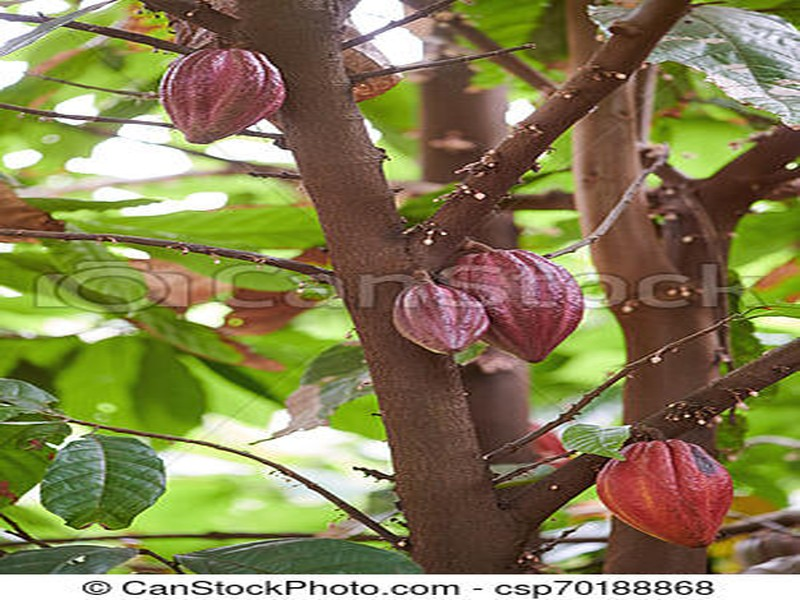Cacaopod: (439, 249, 583, 369), (597, 442, 731, 547), (158, 45, 284, 143)
